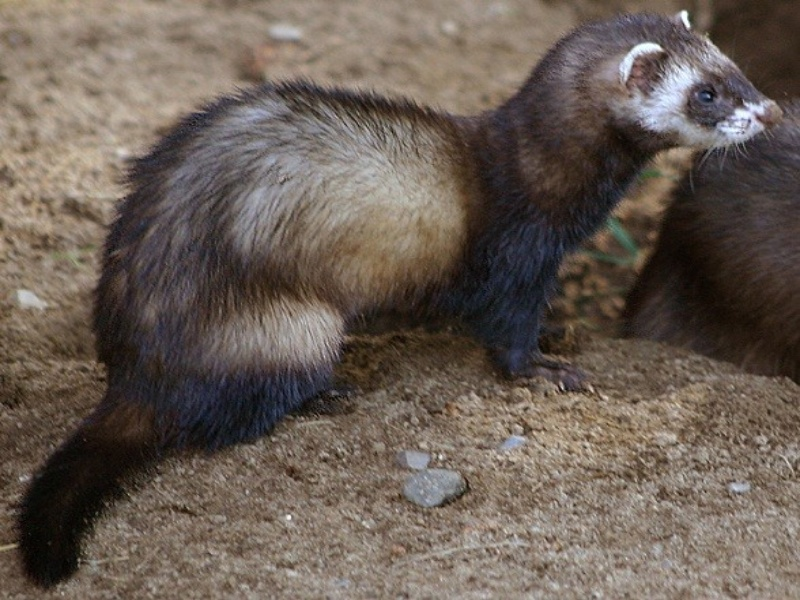minkish: (17, 8, 781, 587)
